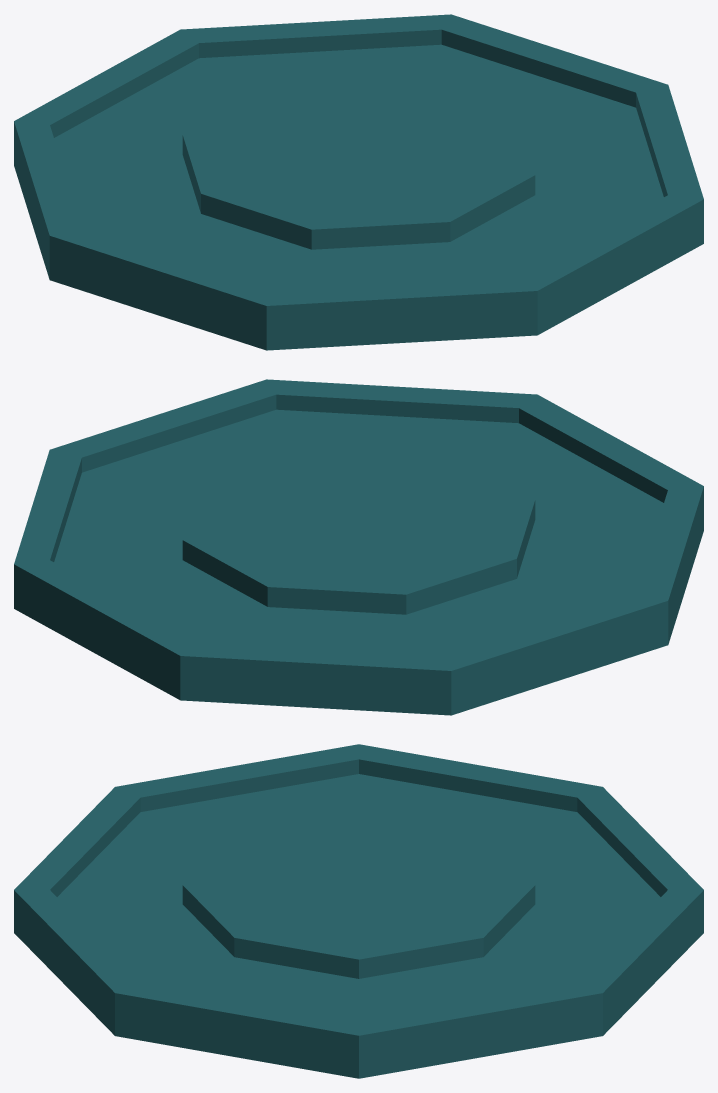
File: zone.fbx
3 views of the same model, one above another, from view 1: azimuth 30°, elevation 25°; view 2: azimuth 150°, elevation 25°; view 3: azimuth 270°, elevation 25° (orthographic). The views are drawn at different scales.
Visible parts, largest first — view 1: Cylinder; view 2: Cylinder; view 3: Cylinder.
Part boxes in pixels (<box>): Cylinder: <box>14,14,703,350</box>; Cylinder: <box>14,379,703,715</box>; Cylinder: <box>14,744,703,1078</box>.
Bounding box in the file's own units: 4 × 0.3059 × 4.
